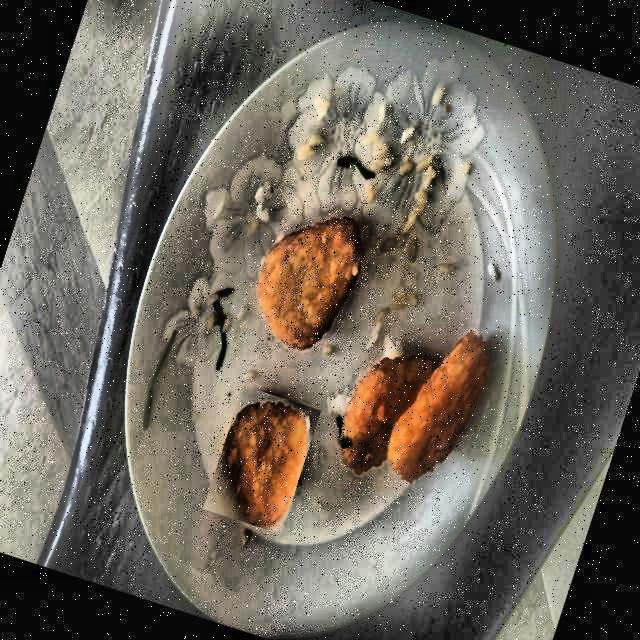Food: (326, 306, 499, 507), (236, 200, 374, 365), (202, 385, 321, 535)
